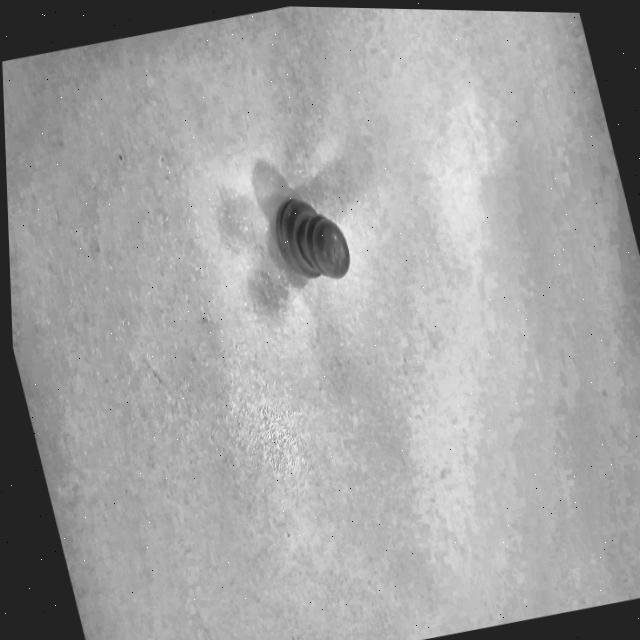white-pawn: (238, 163, 368, 318)
